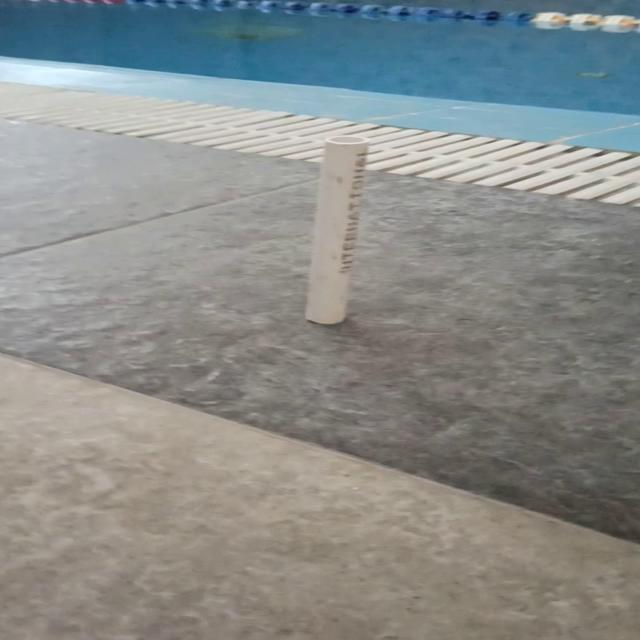Cube: (302, 134, 371, 325)
